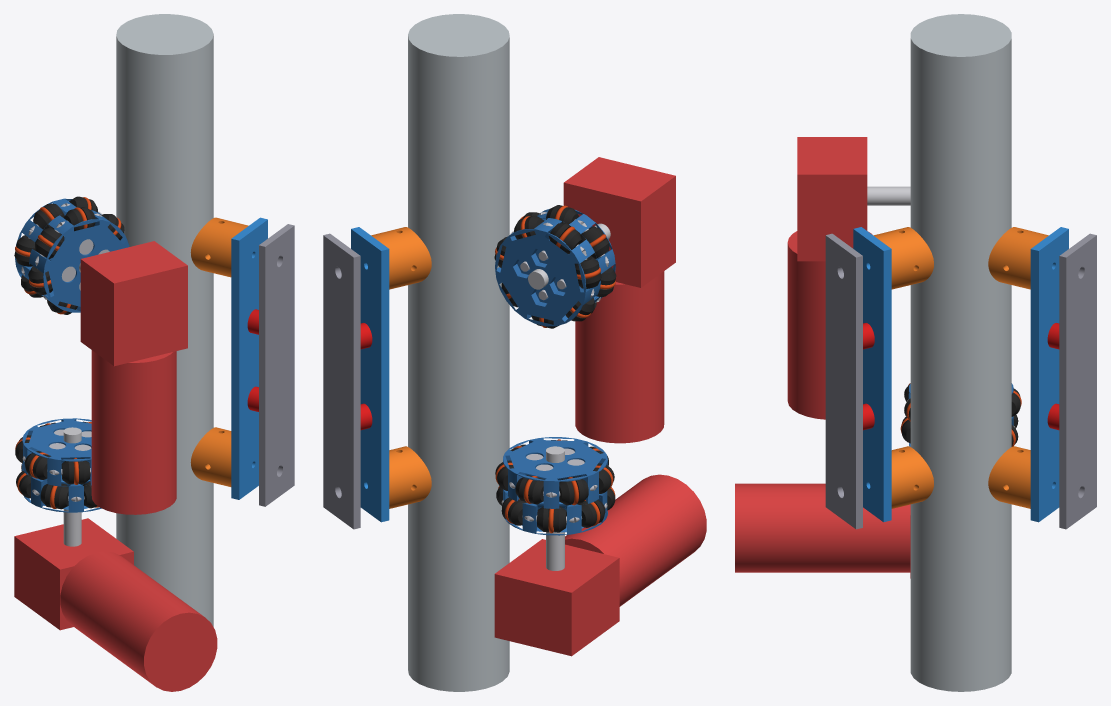
File: cart-wheel-pairs-v2.glb
The picture shows the model from 3 angles, left to right: view 1: azimuth 30°, elevation 25°; view 2: azimuth 150°, elevation 25°; view 3: azimuth 270°, elevation 25°; orthographic projection. The views are drawn at different scales.
Visible parts, largest first — view 1: track_pipe, roll_motor, drive_motor, drive_gearbox, m60_cap, m60_carrier, roll_gearbox, drive_wheel_hub, m60_cups, roll_wheel_hub, drive_wheel_rollers, roll_wheel_rollers (+6 smaller); view 2: track_pipe, drive_motor, roll_gearbox, p60_cap, drive_gearbox, roll_motor, p60_carrier, drive_wheel_hub, roll_wheel_hub, p60_cups, roll_wheel_rollers, drive_wheel_rollers (+4 smaller); view 3: track_pipe, roll_motor, m60_cap, p60_cap, p60_carrier, m60_carrier, drive_gearbox, drive_motor, m60_cups, p60_cups, drive_shaft, roll_wheel_rollers (+1 smaller).
Part boxes in pixels (x1,y1,x2,y2): track_pipe: [116, 14, 213, 626]; roll_motor: [60, 551, 217, 691]; drive_motor: [91, 350, 176, 514]; drive_gearbox: [80, 241, 187, 366]; m60_cap: [259, 224, 294, 506]; m60_carrier: [231, 217, 267, 499]; roll_gearbox: [14, 518, 133, 630]; drive_wheel_hub: [15, 198, 129, 312]; m60_cups: [190, 217, 248, 486]; roll_wheel_hub: [22, 418, 101, 512]; drive_wheel_rollers: [14, 196, 124, 314]; roll_wheel_rollers: [15, 421, 97, 509]; track_pipe: [408, 14, 509, 691]; drive_motor: [575, 271, 664, 443]; roll_gearbox: [494, 539, 619, 656]; p60_cap: [323, 233, 360, 529]; drive_gearbox: [563, 157, 675, 287]; roll_motor: [565, 474, 706, 606]; p60_carrier: [351, 227, 389, 522]; drive_wheel_hub: [495, 209, 615, 326]; roll_wheel_hub: [503, 437, 607, 535]; p60_cups: [371, 227, 431, 508]; roll_wheel_rollers: [495, 440, 615, 532]; drive_wheel_rollers: [494, 205, 616, 328]; track_pipe: [910, 14, 1011, 691]; roll_motor: [735, 483, 910, 572]; m60_cap: [825, 233, 862, 529]; p60_cap: [1059, 233, 1096, 529]; p60_carrier: [1030, 227, 1068, 522]; m60_carrier: [853, 227, 891, 522]; drive_gearbox: [797, 137, 867, 261]; drive_motor: [787, 231, 872, 419]; m60_cups: [873, 227, 933, 508]; p60_cups: [988, 227, 1048, 508]; drive_shaft: [867, 186, 910, 205]; roll_wheel_rollers: [901, 385, 1020, 446].
Size of the model in its own units: 83.92 by 220 by 114.
